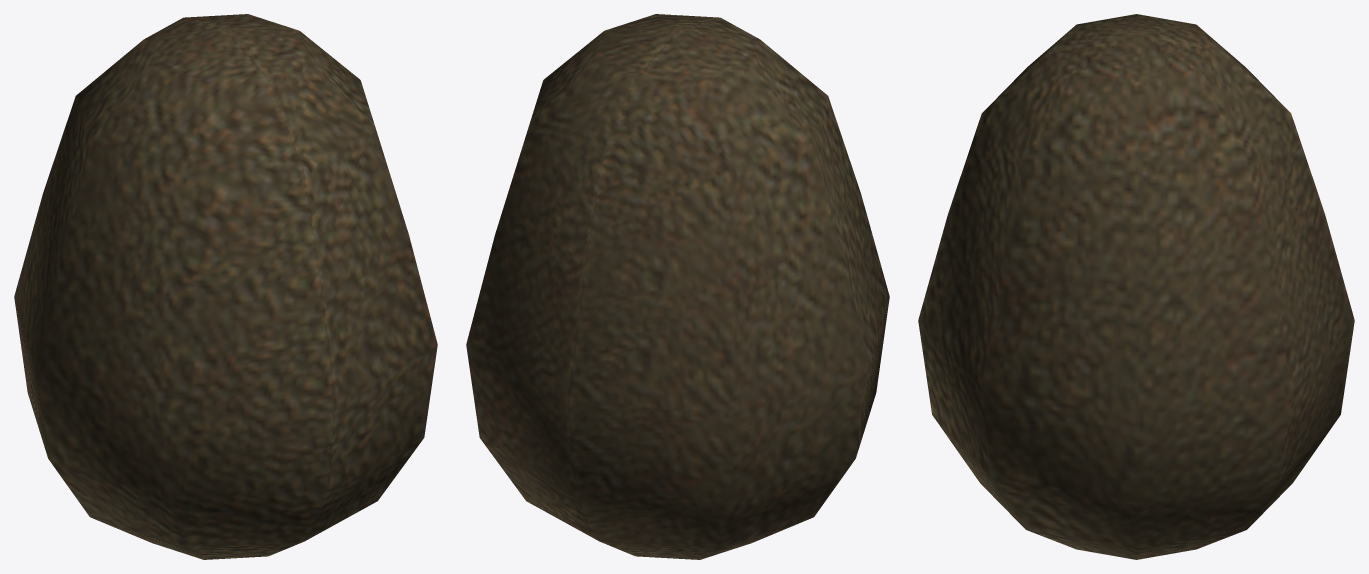
Rendered from SmoothAvacado.obj.
The picture shows the model from 3 angles, left to right: view 1: azimuth 30°, elevation 25°; view 2: azimuth 150°, elevation 25°; view 3: azimuth 270°, elevation 25°; orthographic projection.
Parts seen in each view (by area): view 1: avocado; view 2: avocado; view 3: avocado.
Part boxes in pixels (<box>): avocado: <box>14,14,437,559</box>; avocado: <box>466,14,889,559</box>; avocado: <box>918,14,1354,559</box>.
Bounding box in the file's own units: 1.97 × 2.53 × 1.97.
